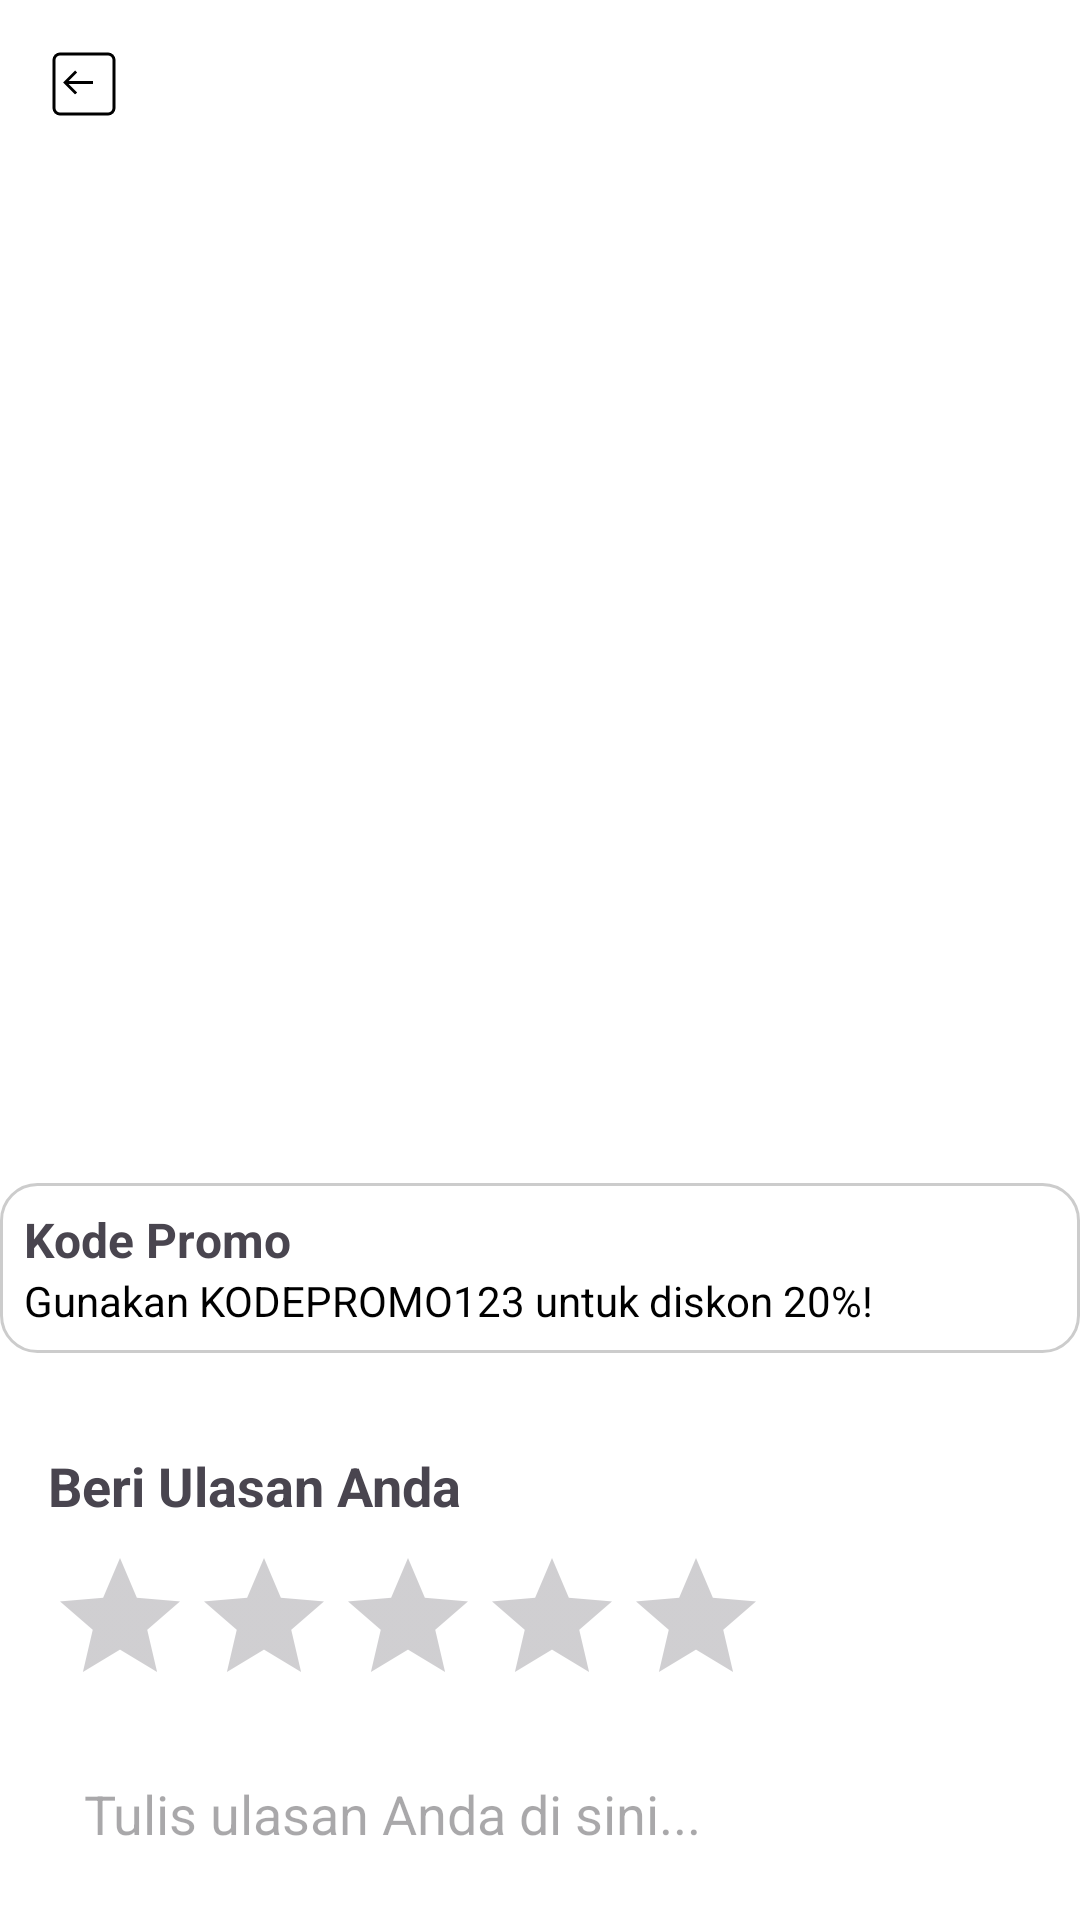

Locate icon controls on the screen. Image size 1080 x 1920, boxes as (x1, y1, x2, y2).
Kembali: (52, 52, 116, 116)
